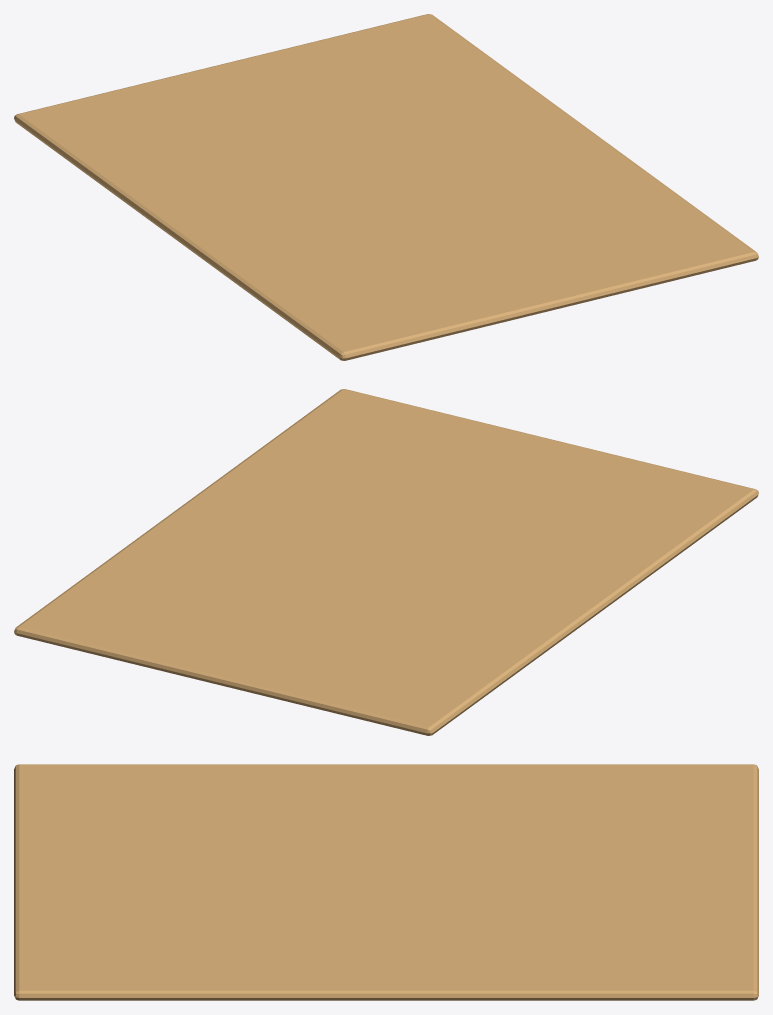
The model's file is Yard_Ground_Tile.fbx.
The picture shows the model from 3 angles, top to bottom: view 1: azimuth 30°, elevation 25°; view 2: azimuth 150°, elevation 25°; view 3: azimuth 270°, elevation 25°; orthographic projection. The views are drawn at different scales.
Visible parts, largest first — view 1: Body; view 2: Body; view 3: Body.
Boxes of the visible parts, x1,y1,x2,y2 form: Body: (14,14,758,360); Body: (14,389,758,735); Body: (14,764,758,1000).
Bounding box in the file's own units: 1100 × 22 × 1500.
